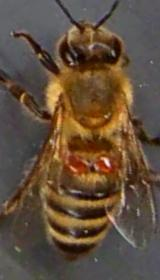varroa_mite: (85, 150, 116, 180), (62, 155, 89, 171)
